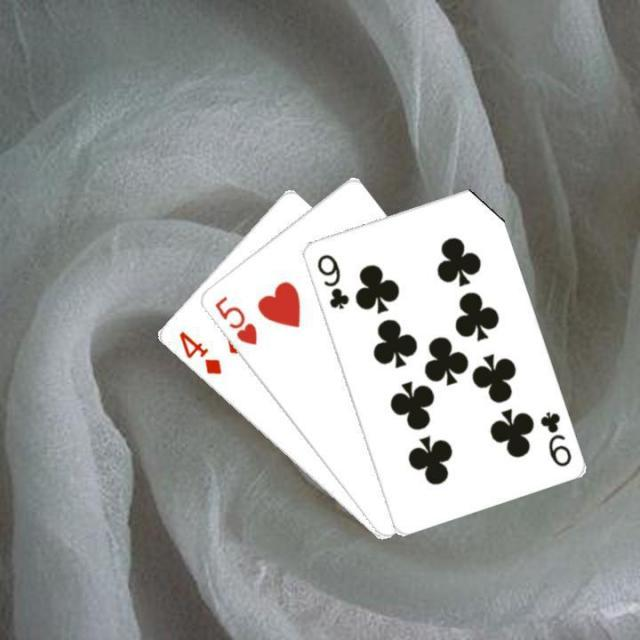4D: (174, 327, 223, 377)
5H: (210, 292, 258, 346)
9C: (312, 250, 351, 312), (535, 407, 573, 469)
